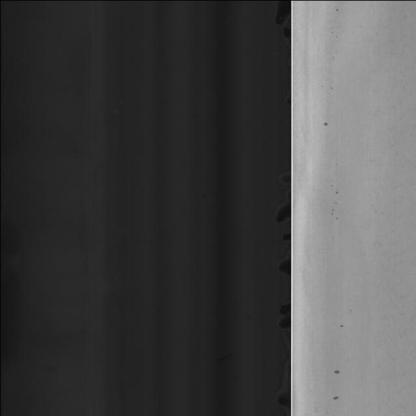oil_spot: (326, 356, 343, 382), (317, 109, 330, 137), (325, 390, 338, 406)
silk_spot: (357, 33, 416, 403)
